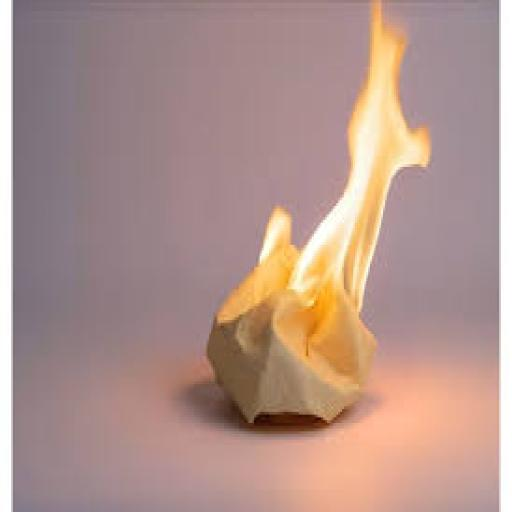fire: (288, 0, 430, 387)
